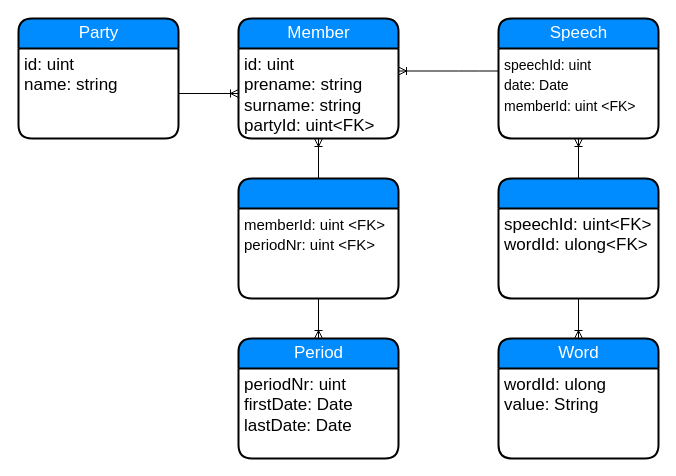
This 676x476 diagram has some shape labels left out. Each missing label, with the box of its shape:
MemberPeriod: (237, 177, 399, 299)
SpeechWord: (497, 177, 659, 299)
